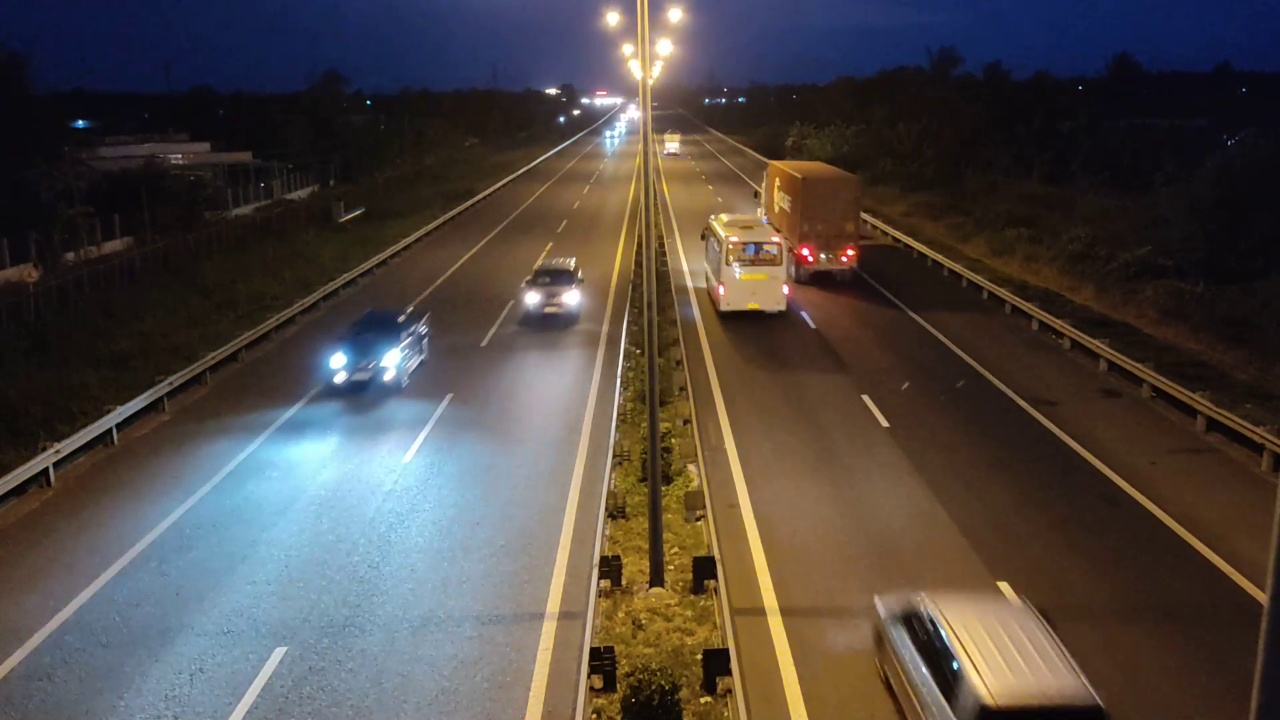bus: (696, 202, 794, 320)
car: (869, 569, 1106, 714), (324, 305, 431, 394), (517, 257, 585, 330)
truck: (759, 157, 863, 284)
